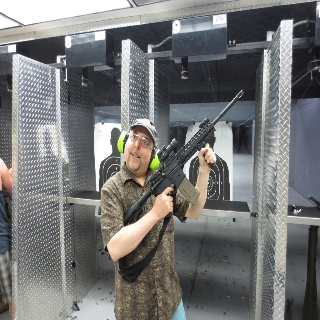rifle: (122, 89, 244, 226)
